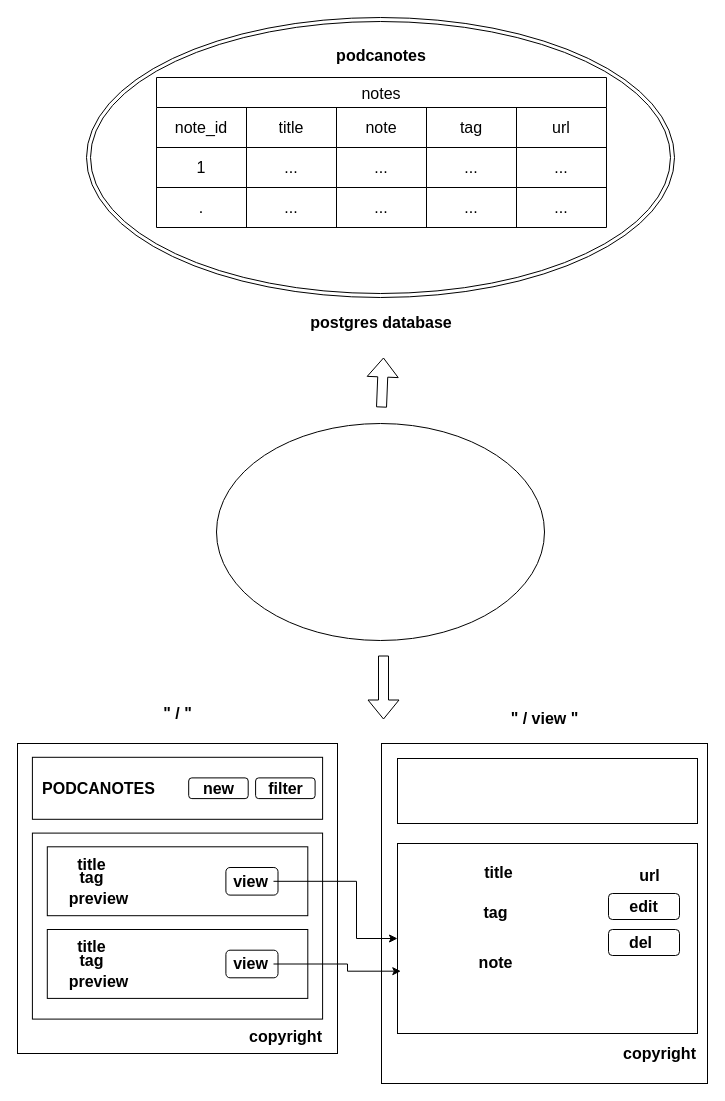
This 725x1101 diagram has some shape labels left out. Each missing label, with the centre of its shape:
"header" belongs at pixel 547 791.
"http GET, POST, PUT, DELETE" belongs at pixel 380 531.
